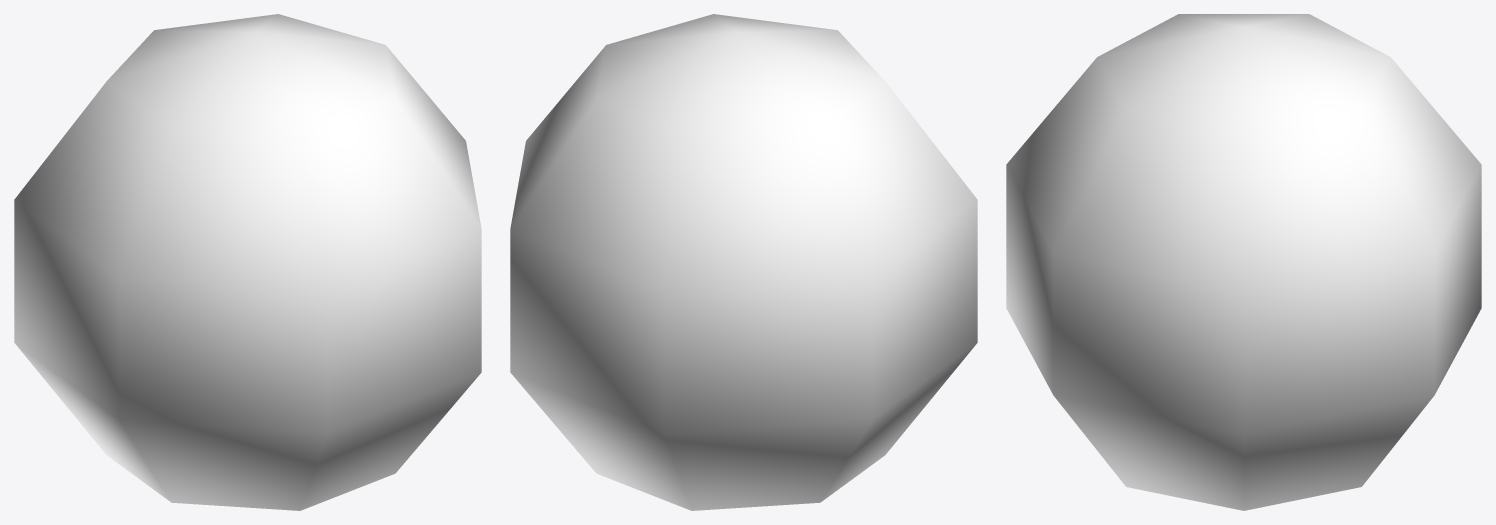
The model's file is smoke.fbx.
The picture shows the model from 3 angles, left to right: view 1: azimuth 30°, elevation 25°; view 2: azimuth 150°, elevation 25°; view 3: azimuth 270°, elevation 25°; orthographic projection.
Parts seen in each view (by area): view 1: smoke; view 2: smoke; view 3: smoke.
Boxes of the visible parts, x1,y1,x2,y2 form: smoke: [14, 14, 481, 510]; smoke: [510, 14, 977, 510]; smoke: [1006, 14, 1481, 510].
Bounding box in the file's own units: 1.81 × 2 × 1.85.
